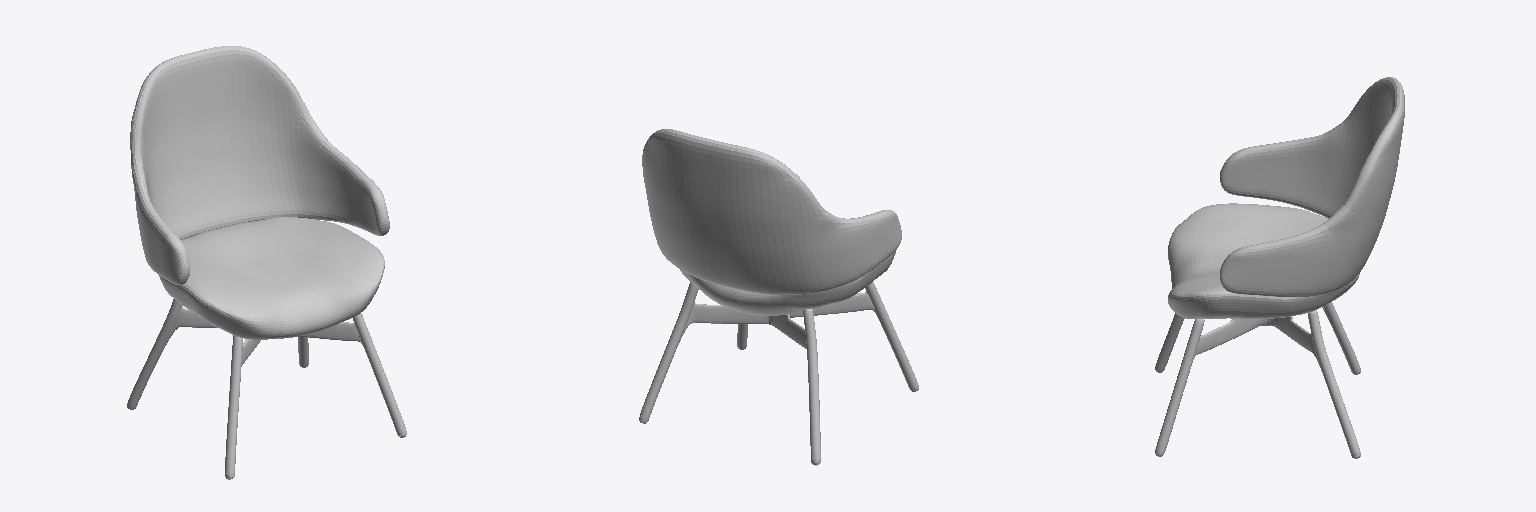
Rendered from Chair.obj.
3 renders of one model, left to right at view 1: azimuth 30°, elevation 25°; view 2: azimuth 150°, elevation 25°; view 3: azimuth 270°, elevation 25°, orthographic.
Parts seen in each view (by area): view 1: Chair_Back_Plane, Chair_Sit_Plane.001, Chair_Legs_Cylinder; view 2: Chair_Back_Plane, Chair_Legs_Cylinder, Chair_Sit_Plane.001; view 3: Chair_Back_Plane, Chair_Sit_Plane.001, Chair_Legs_Cylinder.
Boxes of the visible parts, x1=… form: Chair_Back_Plane: x1=130, y1=46, x2=389, y2=284; Chair_Sit_Plane.001: x1=159, y1=217, x2=384, y2=339; Chair_Legs_Cylinder: x1=127, y1=299, x2=406, y2=479; Chair_Back_Plane: x1=642, y1=129, x2=901, y2=294; Chair_Legs_Cylinder: x1=639, y1=282, x2=918, y2=465; Chair_Sit_Plane.001: x1=680, y1=251, x2=895, y2=315; Chair_Back_Plane: x1=1220, y1=77, x2=1404, y2=296; Chair_Sit_Plane.001: x1=1168, y1=203, x2=1359, y2=318; Chair_Legs_Cylinder: x1=1155, y1=302, x2=1360, y2=458.
Bounding box in the file's own units: 1.72 × 2.46 × 1.74.